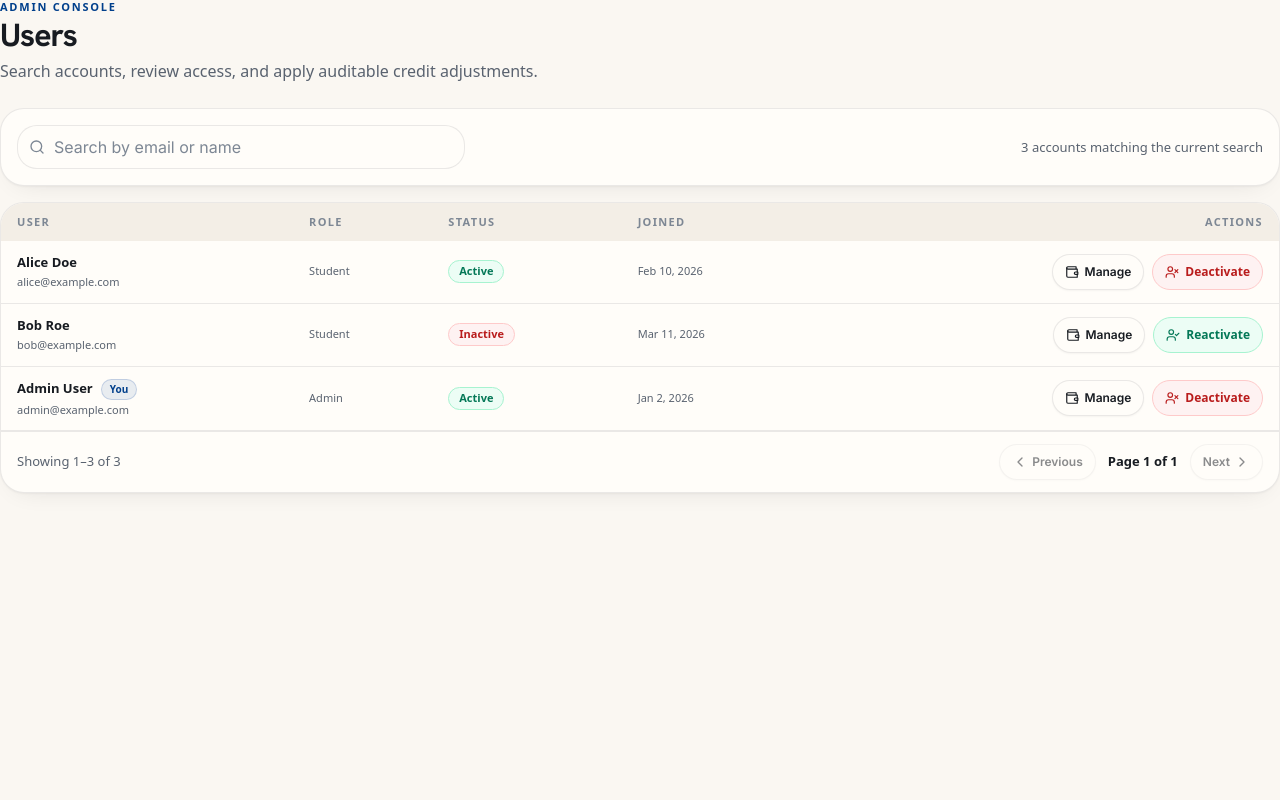
Test: AdminUsersPage › opens the per-user drawer with credit balance, transactions, and an adjustment form
Expected: the text "Alice Doe" is shown, [17,253,77,272]
Click the button with aria-label "manage alice@example.com" at x=1098, y=272, box [1052,254,1144,290]
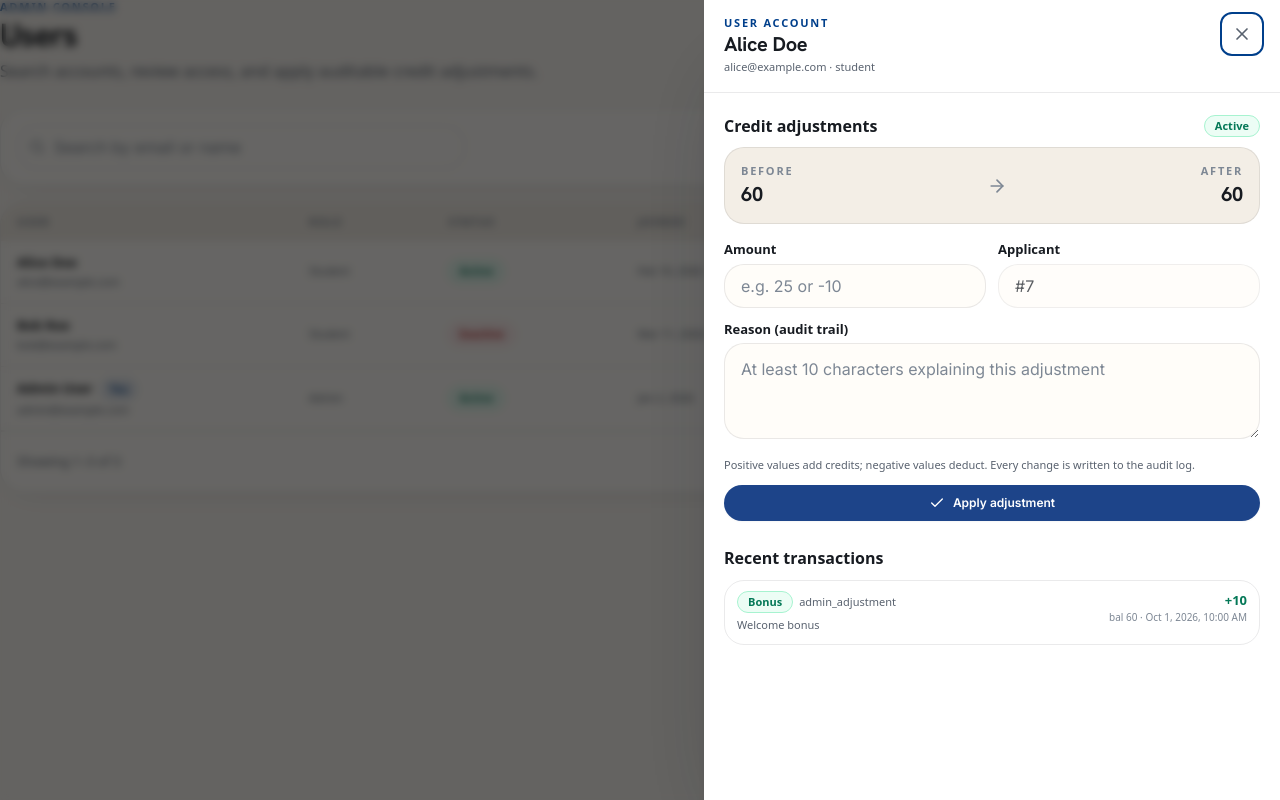
Result: the text with test id "balance-before" reads "60" at [741,181,763,207]
Result: the text with test id "balance-after" reads "60" at [1221,181,1243,207]
Result: the text "Welcome bonus" is shown at [737,617,820,632]
Type "25" into the number field labelled "Amount" at x=855, y=286, box [724,264,986,308]
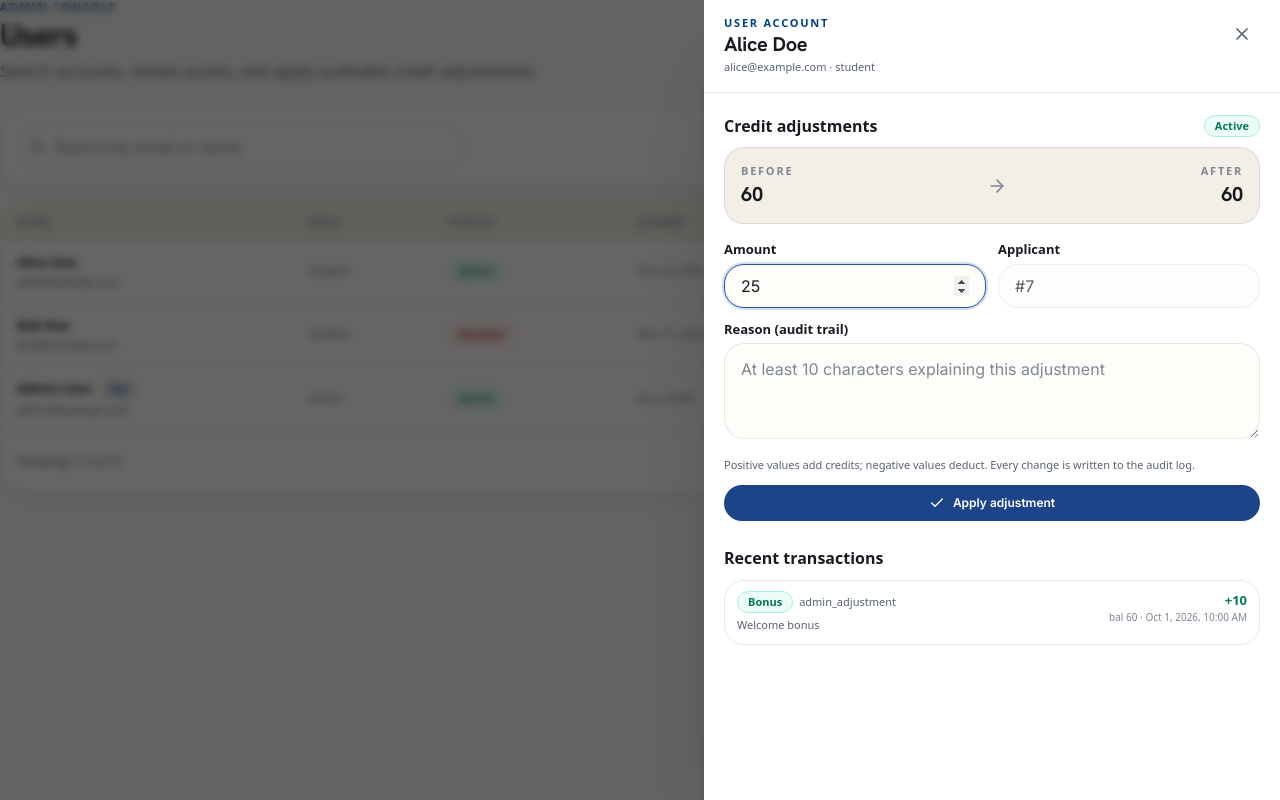
Type "Goodwill credit for user" into the text box labelled "Reason (audit trail)" at x=992, y=391, box [724,343,1260,439]
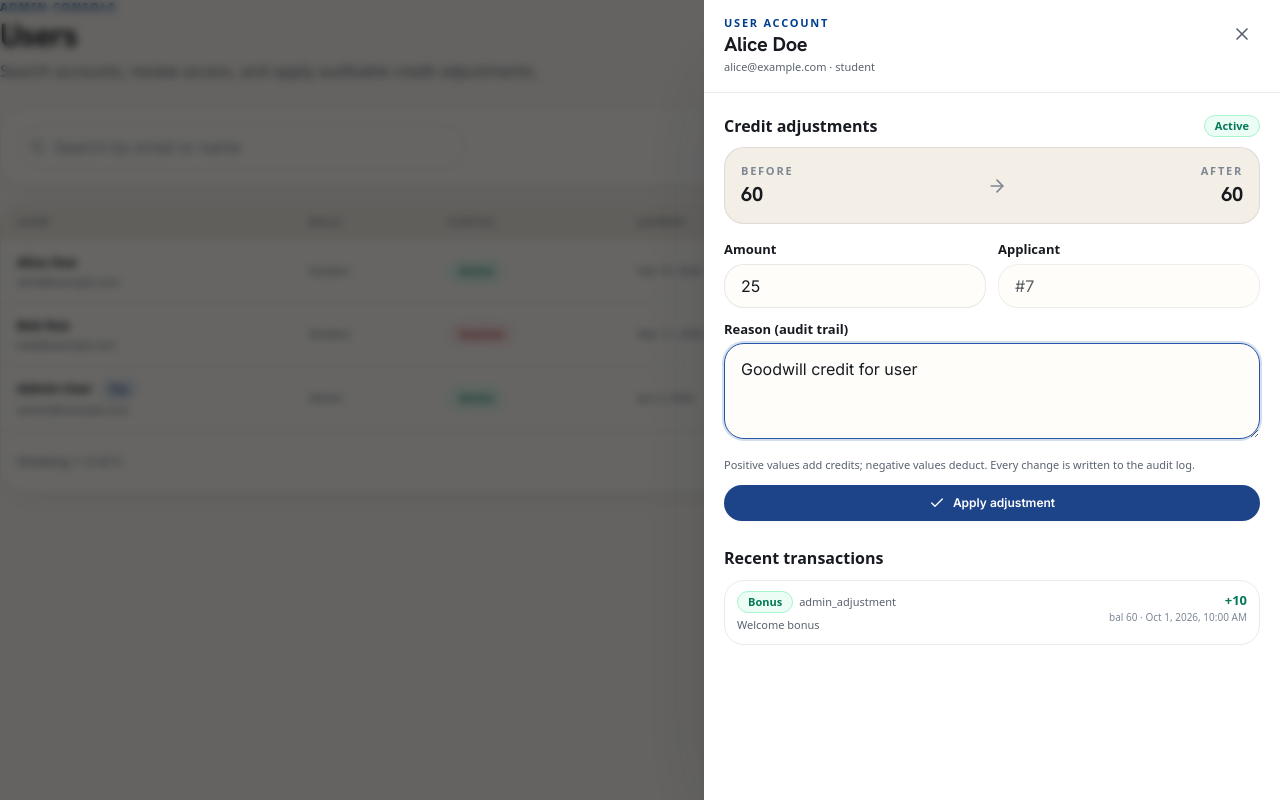
Click the button "Apply adjustment" at x=992, y=503, box [724,485,1260,521]
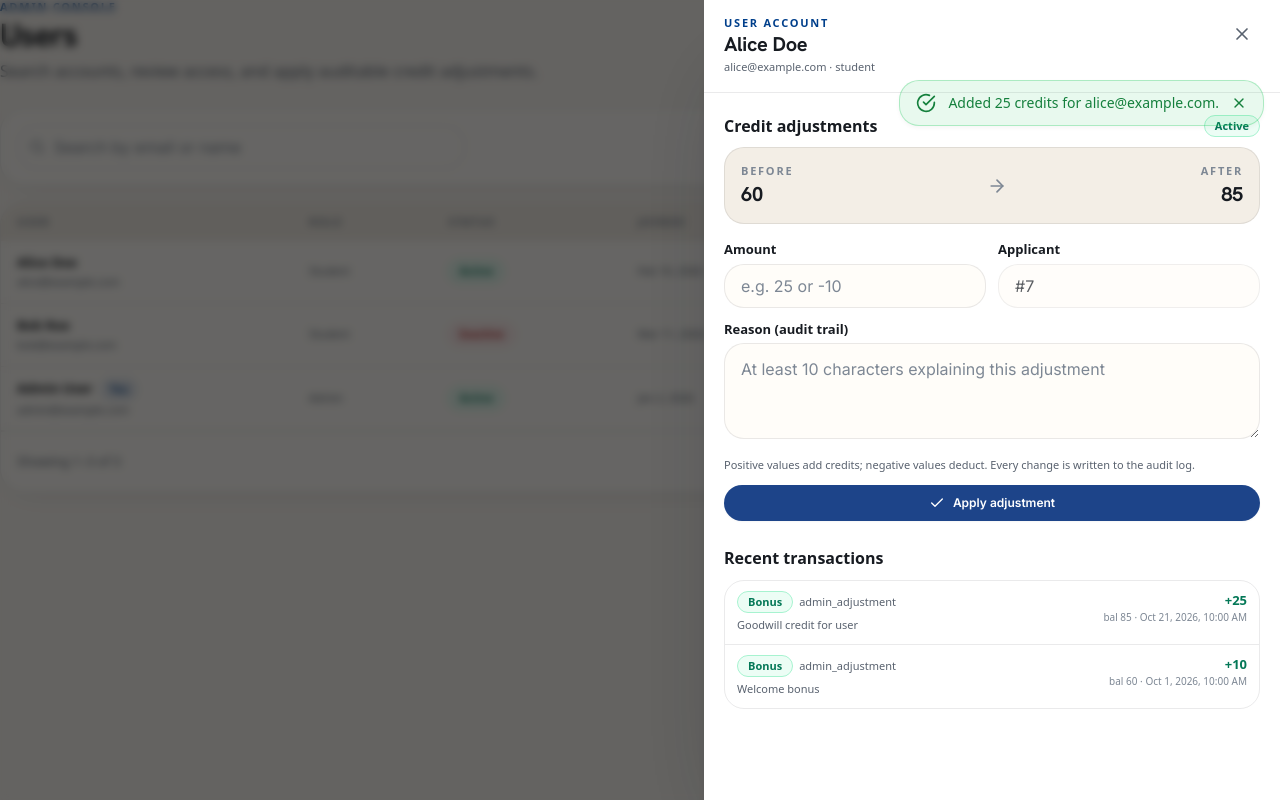
Result: the text with test id "balance-before" reads "60" at [741,181,763,207]
Result: the text with test id "balance-after" reads "85" at [1221,181,1243,207]
Result: the text "+25" is shown at [1225,591,1247,609]
